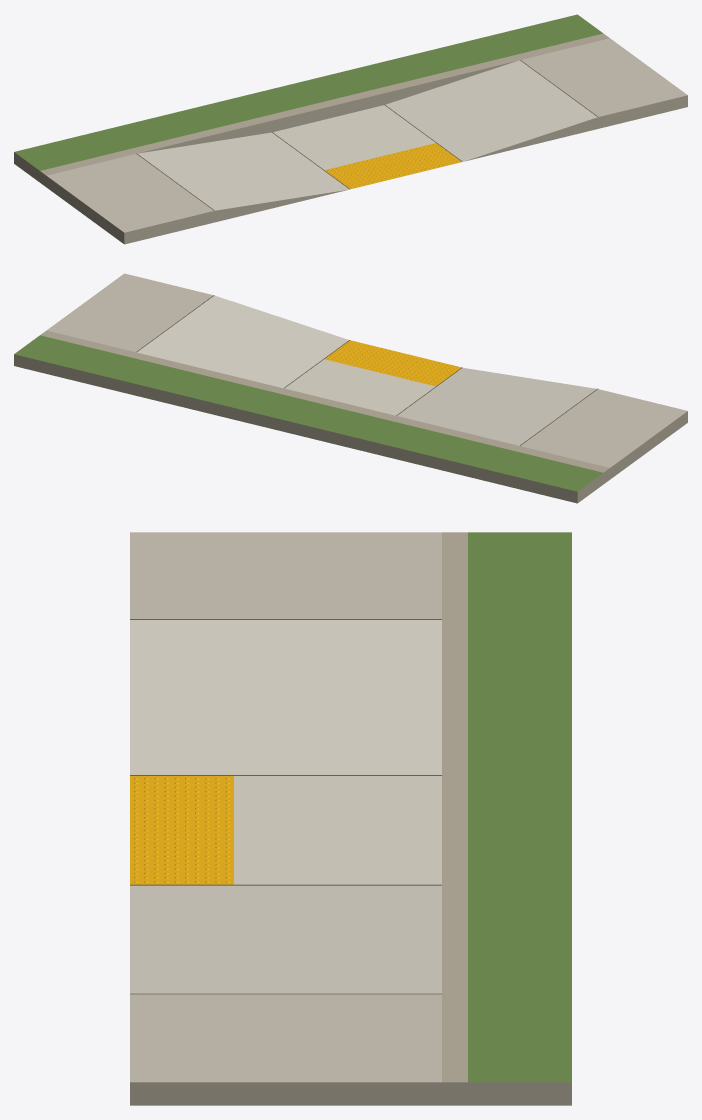
Rendered from ramp-422b.glb.
3 views of the same model, one above another, from view 1: azimuth 30°, elevation 25°; view 2: azimuth 150°, elevation 25°; view 3: azimuth 270°, elevation 25° (orthographic). The views are drawn at different scales.
Visible parts, largest first — view 1: Seattle Type 422B parallel curb ramp; view 2: Seattle Type 422B parallel curb ramp; view 3: Seattle Type 422B parallel curb ramp.
Part boxes in pixels (box(x1,y1,x2,y2)): Seattle Type 422B parallel curb ramp: box(14, 14, 687, 244); Seattle Type 422B parallel curb ramp: box(14, 273, 687, 503); Seattle Type 422B parallel curb ramp: box(130, 532, 571, 1105).
Size of the model in its own units: 7.63 by 0.1554 by 2.59.
